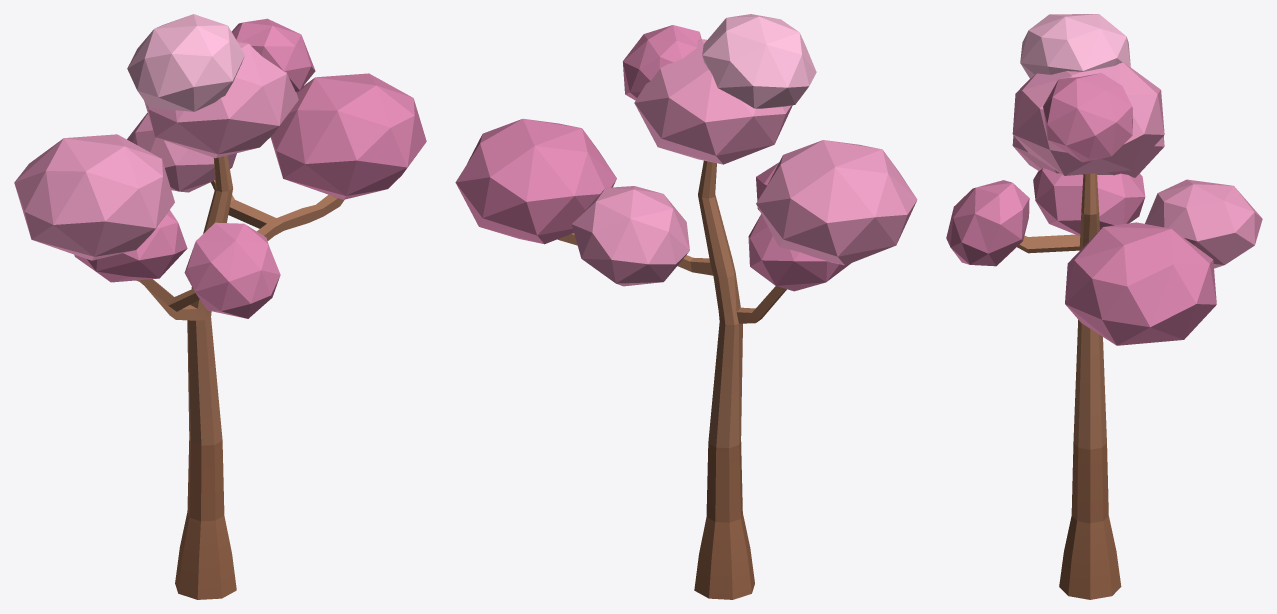
The model's file is tree_1.fbx.
3 renders of one model, left to right at view 1: azimuth 30°, elevation 25°; view 2: azimuth 150°, elevation 25°; view 3: azimuth 270°, elevation 25°, orthographic. The views are drawn at different scales.
Parts seen in each view (by area): view 1: tree_1; view 2: tree_1; view 3: tree_1.
Part boxes in pixels (<box>): tree_1: <box>14,14,426,599</box>; tree_1: <box>455,14,917,599</box>; tree_1: <box>946,14,1262,599</box>.
Size of the model in its own units: 560 by 732 by 375.
